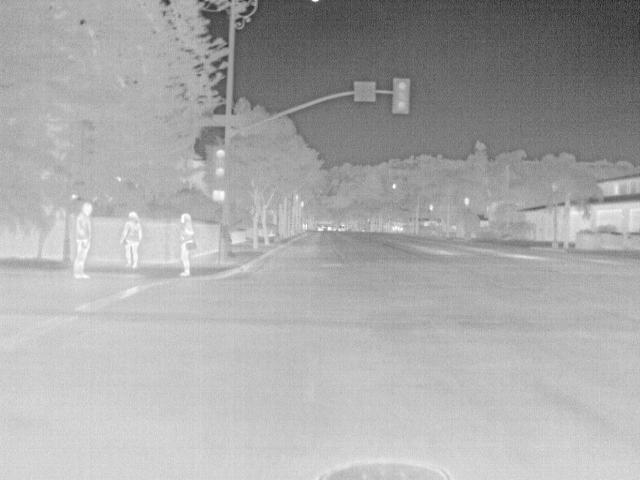person: (71, 200, 97, 280), (117, 210, 145, 271), (176, 211, 195, 280)
